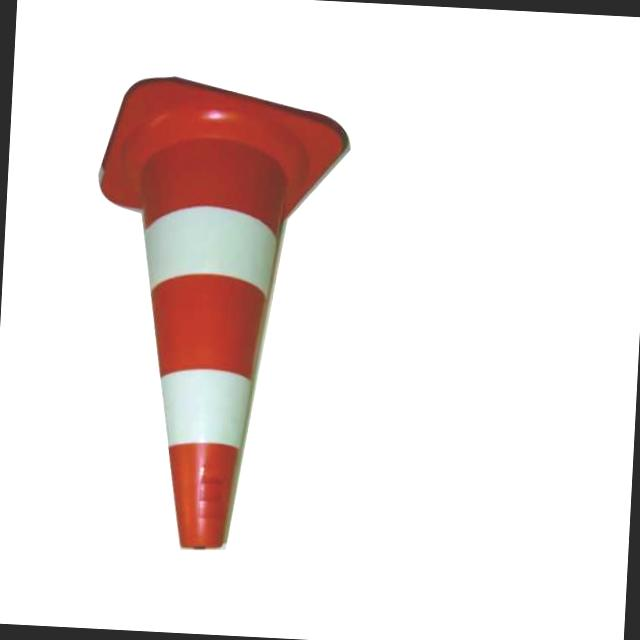cone: (54, 62, 370, 567)
